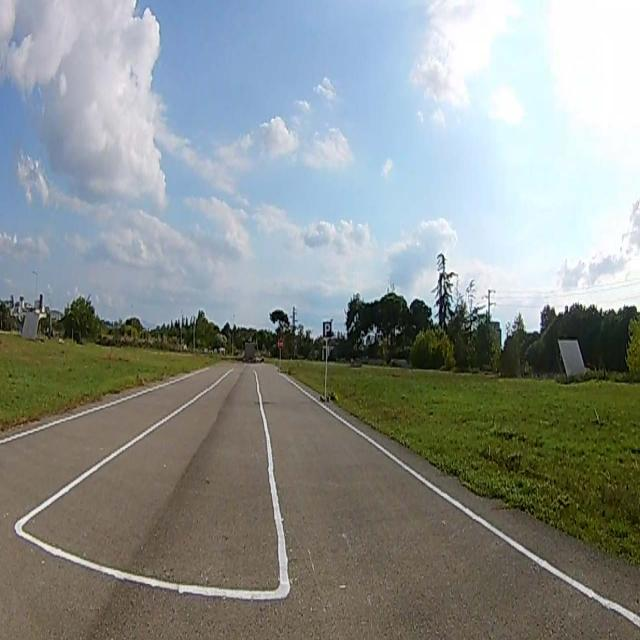park: (322, 322, 332, 338)
